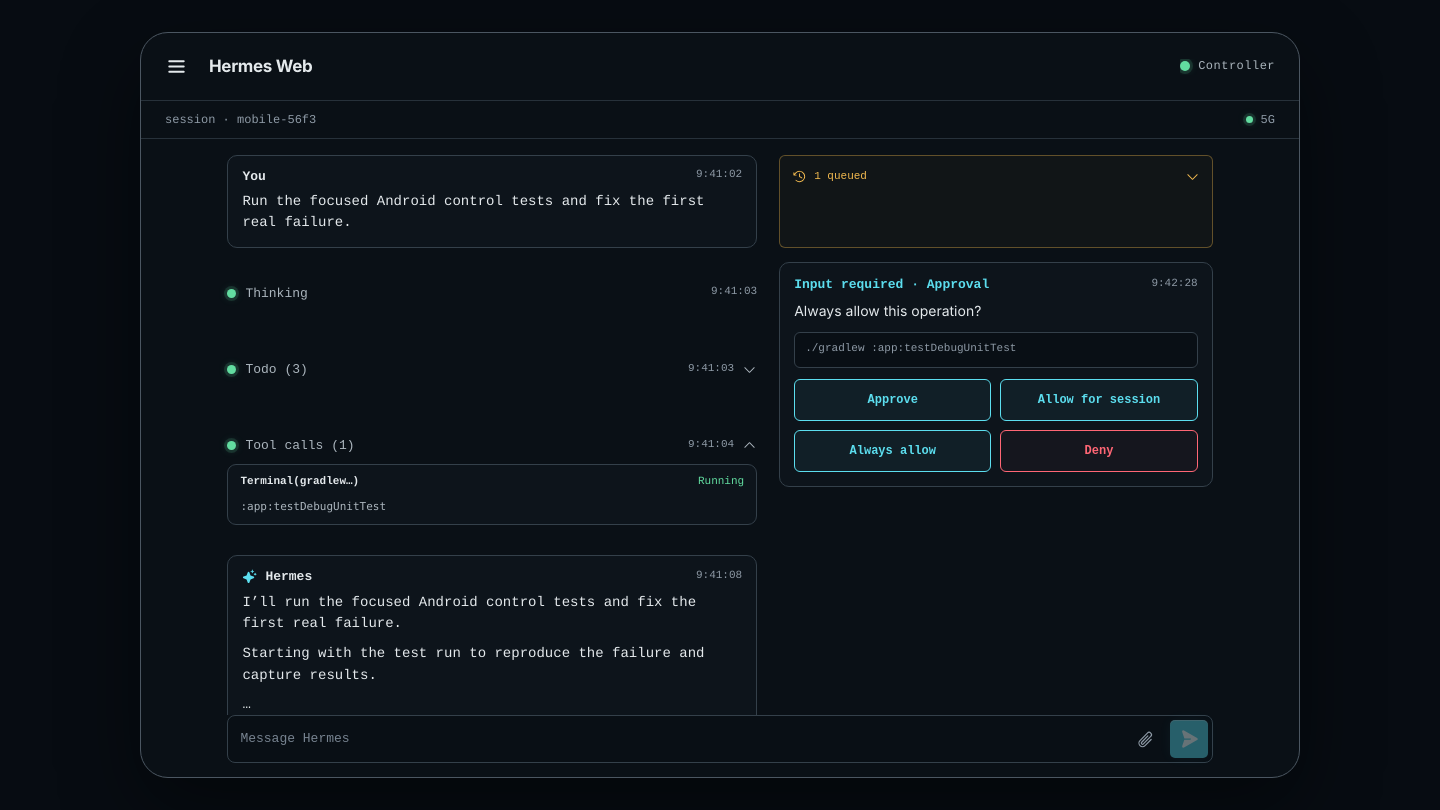
Test case: Hermes Web mobile-parity slice › renders only server choices and confirms allow_always before sending an approval response
This screenshot has width=1440, height=810.
Expected: the button "Approve" is shown, [794,379,991,421]
Expected: the button "Allow for session" is shown, [1000,379,1198,421]
Click the button "Always allow" at (893, 451), box [794,430,991,472]
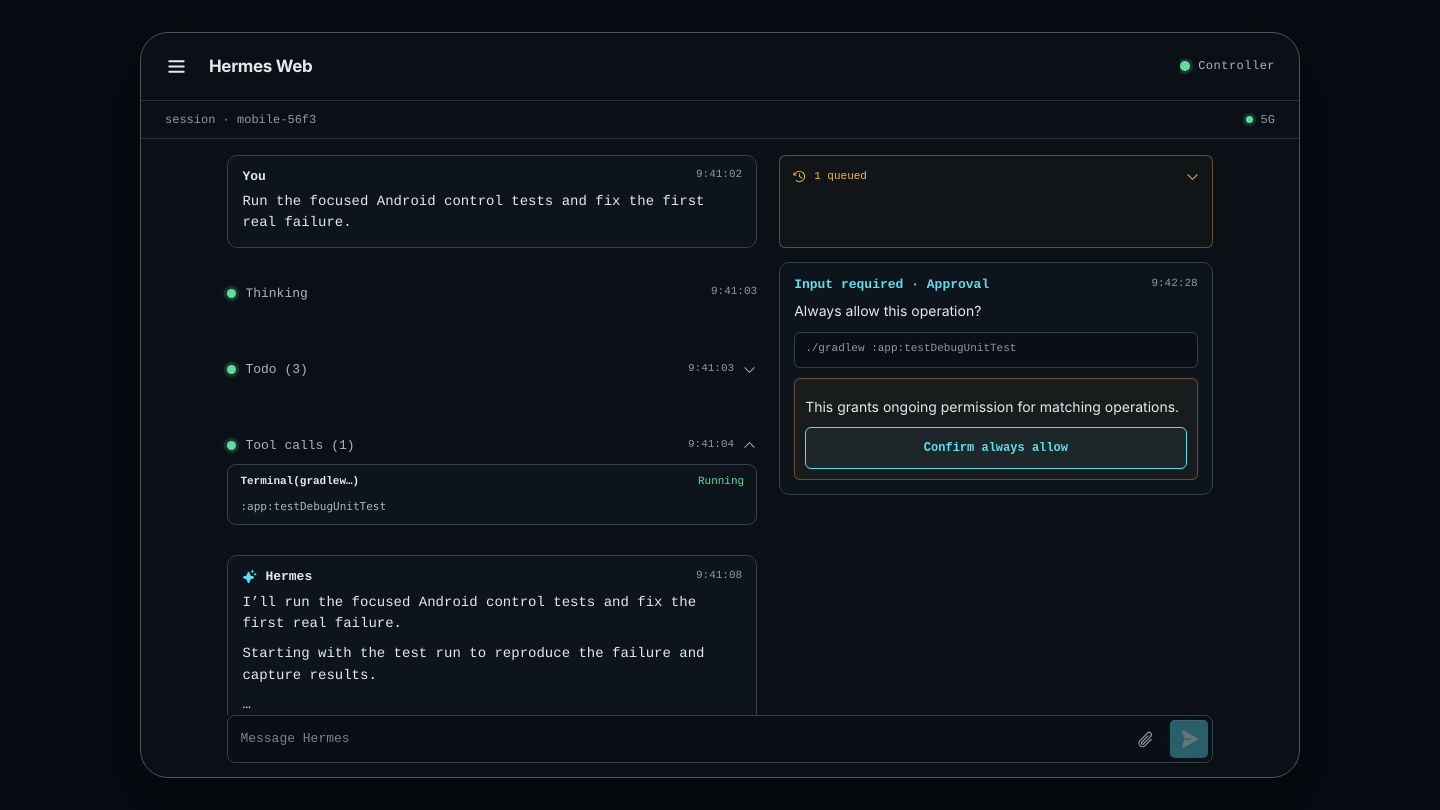
Click the button "Confirm always allow" at (996, 448), box [805,427,1187,469]
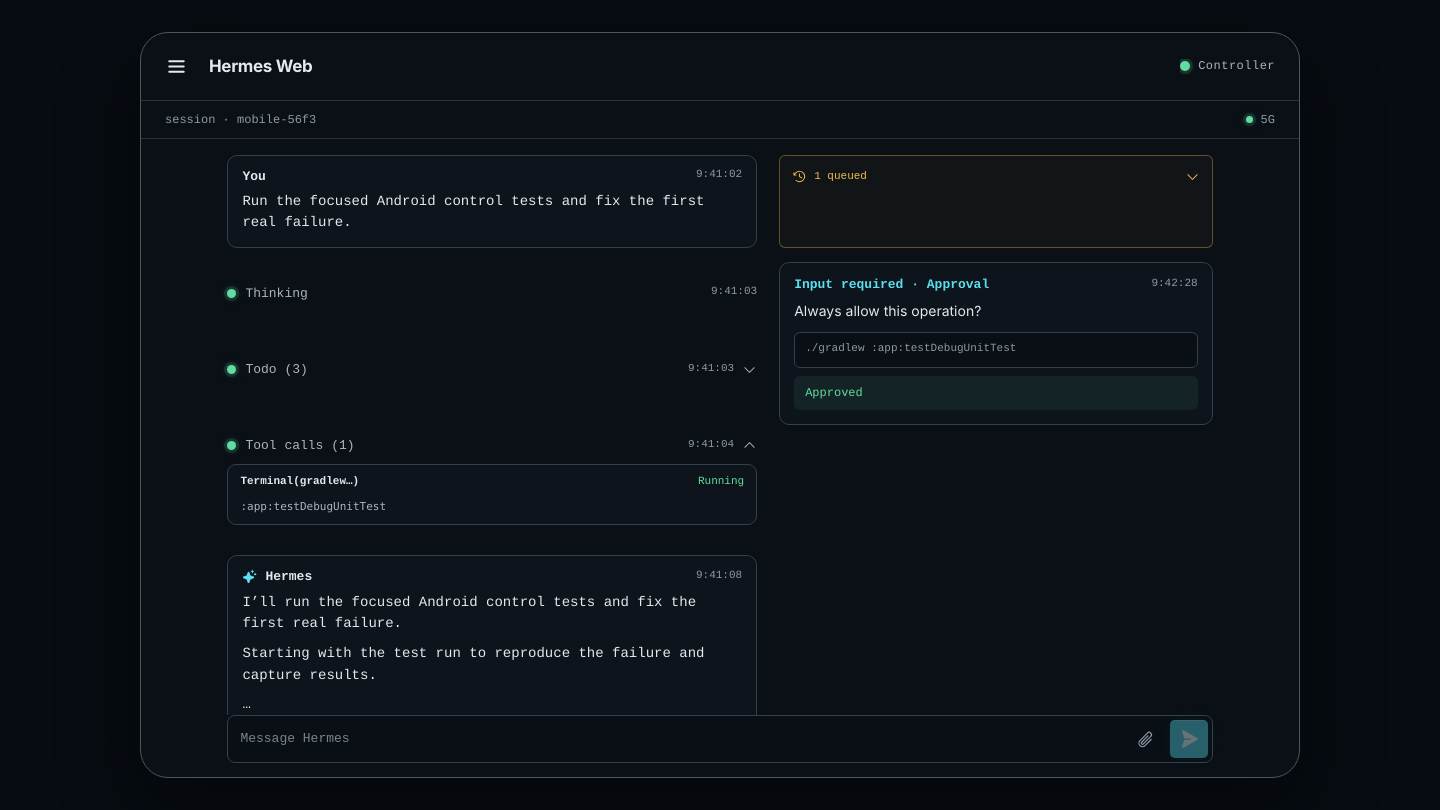
Now the message reads "Approved", box [805,386,863,400]
